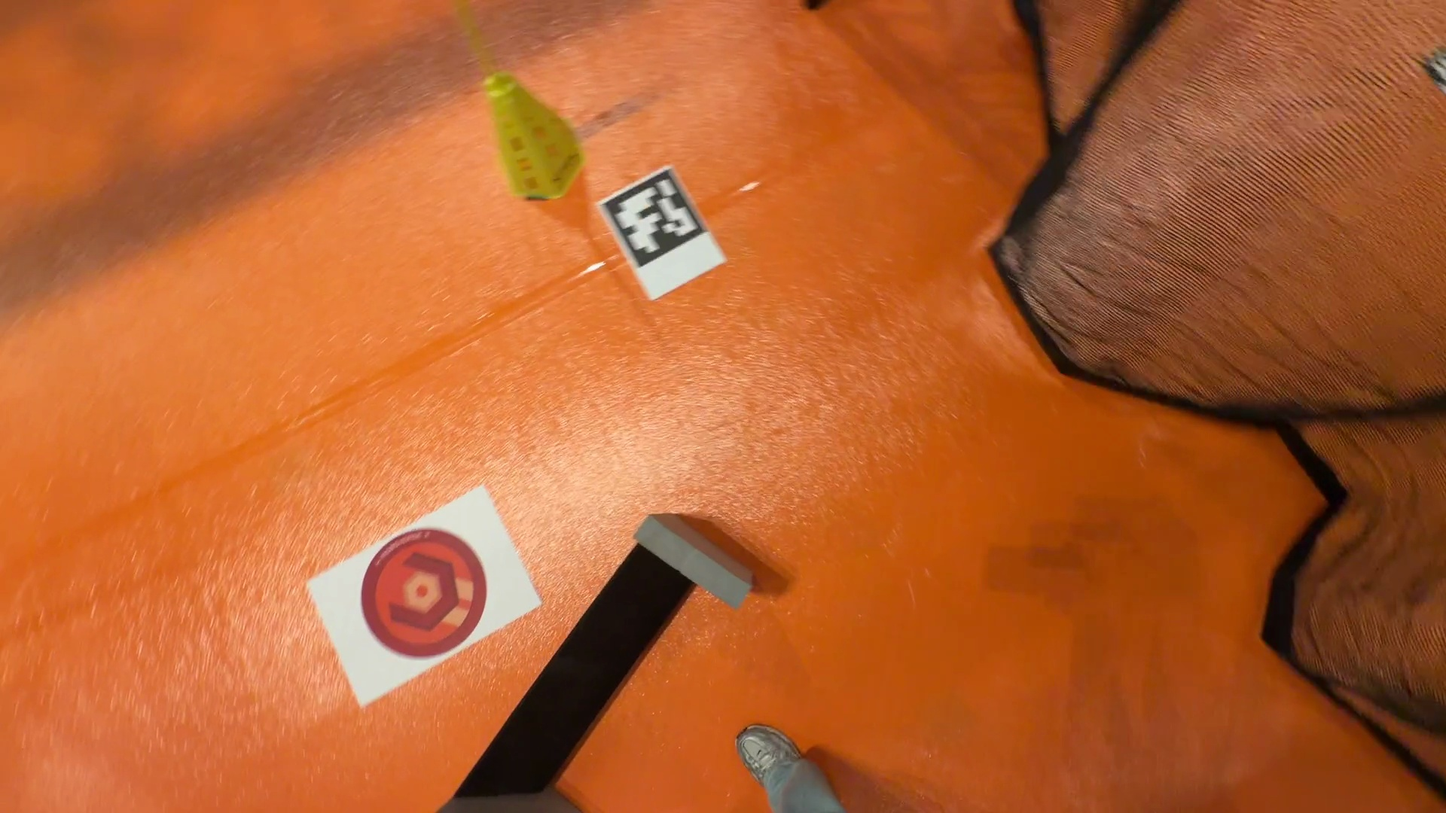landing_pad: (361, 530, 496, 660)
